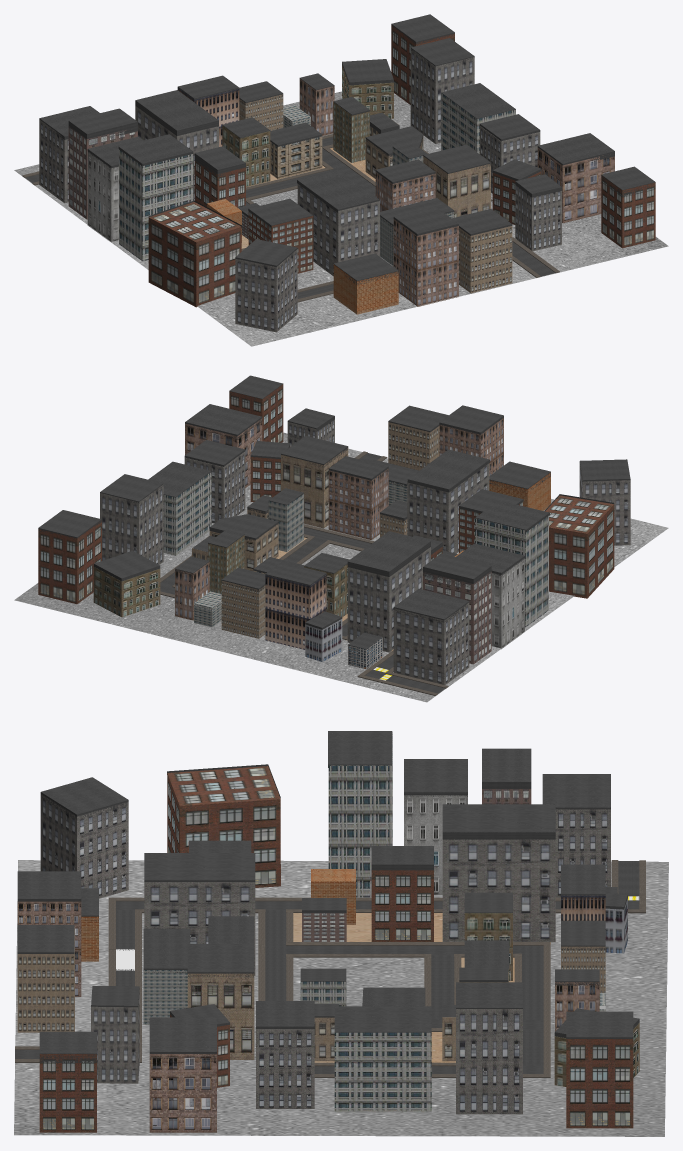
Rendered from city-low-poly.glb.
The picture shows the model from 3 angles, top to bottom: view 1: azimuth 30°, elevation 25°; view 2: azimuth 150°, elevation 25°; view 3: azimuth 270°, elevation 25°; orthographic projection. The views are drawn at different scales.
Visible parts, largest first — view 1: MeshInstance3D_90, Cube 222_61, Cube 221_59, Cube 212_41, Cube 209_35, Cube 233_83, Cube 195_8, Cube 214_45, Cube 211_39, Cube 215_47, Cube 217_51, Cube 230_77 (+51 smaller); view 2: MeshInstance3D_90, Cube 222_61, Cube 218_53, Cube 204_26, Cube 196_10, Cube 195_8, Cube 221_59, Cube 209_35, Cube 231_79, Cube 201_20, Cube 194_6, Cube 219_55 (+49 smaller); view 3: MeshInstance3D_90, Cube 222_61, Cube 204_26, Cube 194_6, Cube 195_8, Cube 221_59, Cube 233_83, Cube 196_10, Cube 215_47, Cube 209_35, Cube 1_4, Cube 211_39 (+54 smaller).
Part boxes in pixels (x1,y1,x2,y2): MeshInstance3D_90: (14, 91, 668, 346); Cube 222_61: (148, 202, 241, 307); Cube 221_59: (119, 149, 193, 261); Cube 212_41: (393, 219, 458, 306); Cube 209_35: (297, 184, 379, 275); Cube 233_83: (235, 249, 297, 332); Cube 195_8: (410, 48, 474, 143); Cube 214_45: (601, 176, 655, 248); Cube 211_39: (459, 226, 512, 293); Cube 215_47: (537, 147, 614, 223); Cube 217_51: (515, 185, 561, 251); Cube 230_77: (423, 156, 490, 217); MeshInstance3D_90: (14, 432, 668, 702); Cube 222_61: (545, 495, 614, 598); Cube 218_53: (393, 603, 469, 684); Cube 204_26: (347, 547, 430, 652); Cube 196_10: (38, 520, 101, 604); Cube 195_8: (100, 484, 163, 564); Cube 221_59: (475, 516, 548, 627); Cube 209_35: (407, 463, 489, 553); Cube 231_79: (328, 469, 388, 539); Cube 201_20: (265, 574, 326, 649); Cube 194_6: (163, 472, 211, 555); Cube 219_55: (423, 571, 491, 664); MeshInstance3D_90: (14, 860, 668, 1136); Cube 222_61: (167, 766, 280, 887); Cube 204_26: (442, 839, 555, 942); Cube 194_6: (334, 1032, 431, 1112); Cube 195_8: (456, 1009, 522, 1114); Cube 221_59: (328, 732, 392, 897); Cube 233_83: (40, 794, 128, 898); Cube 196_10: (566, 1039, 633, 1128); Cube 215_47: (149, 1054, 216, 1132); Cube 209_35: (144, 882, 255, 975); Cube 1_4: (256, 1029, 314, 1108); Cube 211_39: (17, 927, 74, 1032).
Size of the model in its own units: 522 by 115 by 509.
Materials: 45 (44 with a texture image).
